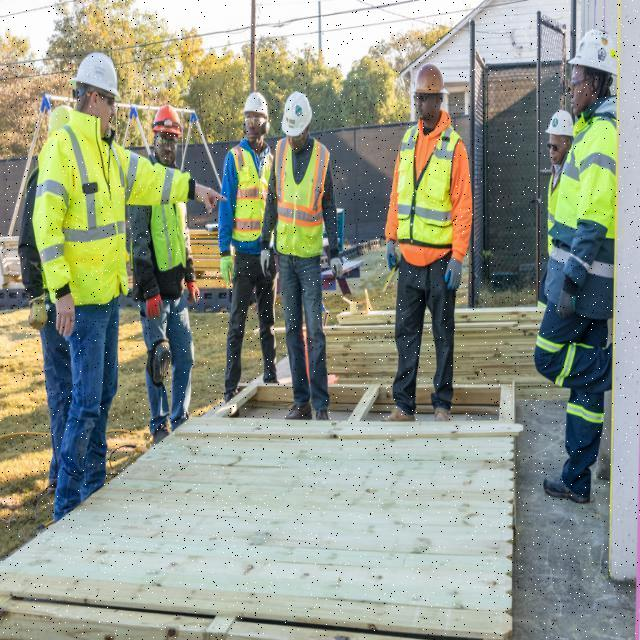goggles_on: (237, 108, 271, 132), (403, 89, 446, 106), (152, 134, 184, 154)
